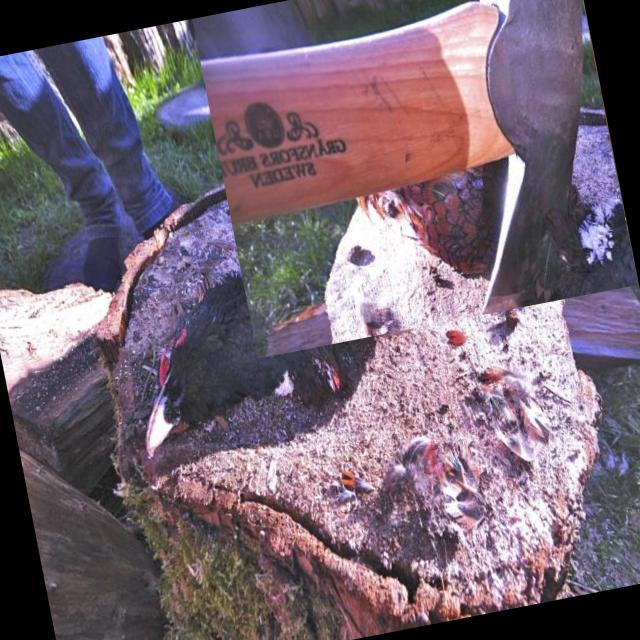Axe: (201, 0, 583, 314)
